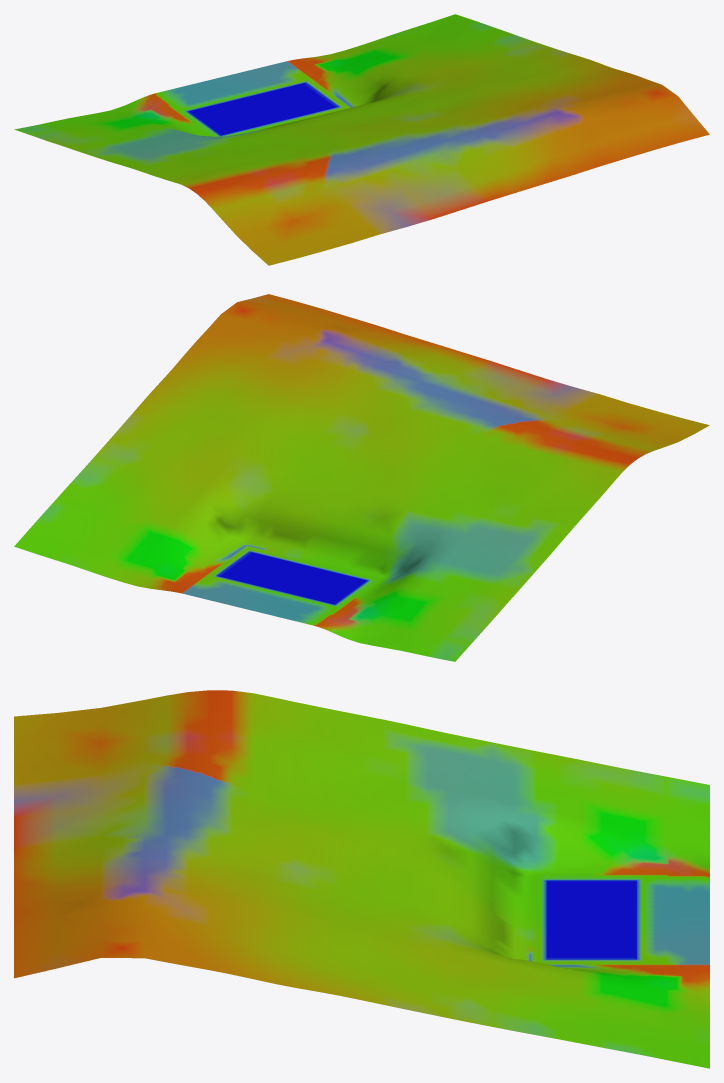
File: SM_BM_BT_Terrain_5_0.glb
3 views of the same model, one above another, from view 1: azimuth 30°, elevation 25°; view 2: azimuth 150°, elevation 25°; view 3: azimuth 270°, elevation 25° (orthographic). The views are drawn at different scales.
Parts seen in each view (by area): view 1: SM_BM_BT_Terrain_5_0; view 2: SM_BM_BT_Terrain_5_0; view 3: SM_BM_BT_Terrain_5_0.
Part boxes in pixels (x1,y1,x2,y2): SM_BM_BT_Terrain_5_0: (14, 14, 709, 265); SM_BM_BT_Terrain_5_0: (14, 294, 709, 661); SM_BM_BT_Terrain_5_0: (14, 690, 709, 1068).
Size of the model in its own units: 256 by 52.14 by 256.
